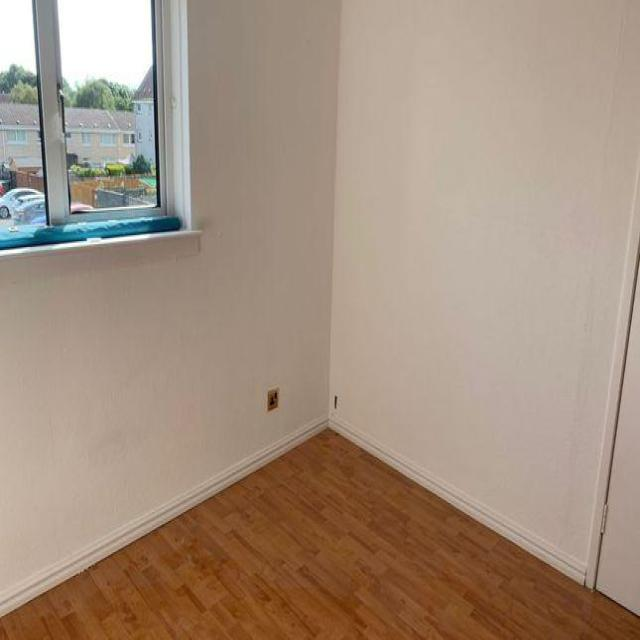Wall: (0, 0, 640, 605), (0, 431, 640, 639)
